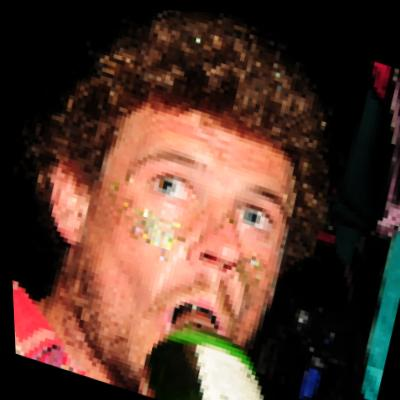surprise: (40, 56, 327, 400)
